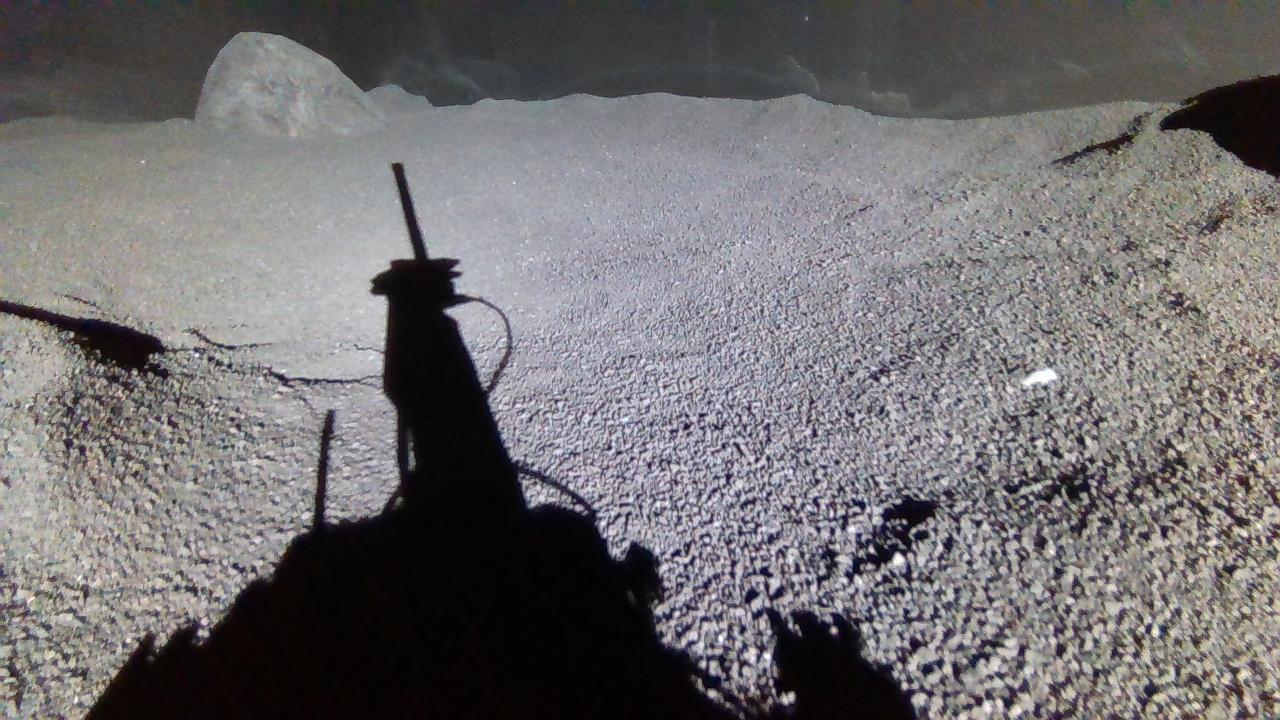rock: (195, 30, 384, 136)
